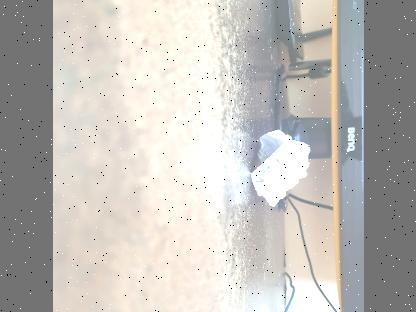Others: (249, 129, 309, 203)
